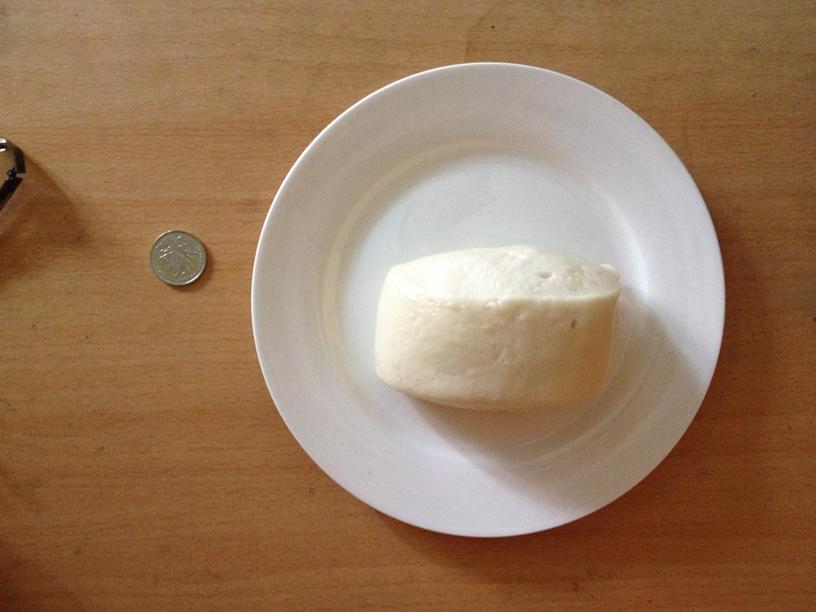bun: (375, 247, 621, 412)
coin: (148, 229, 208, 287)
